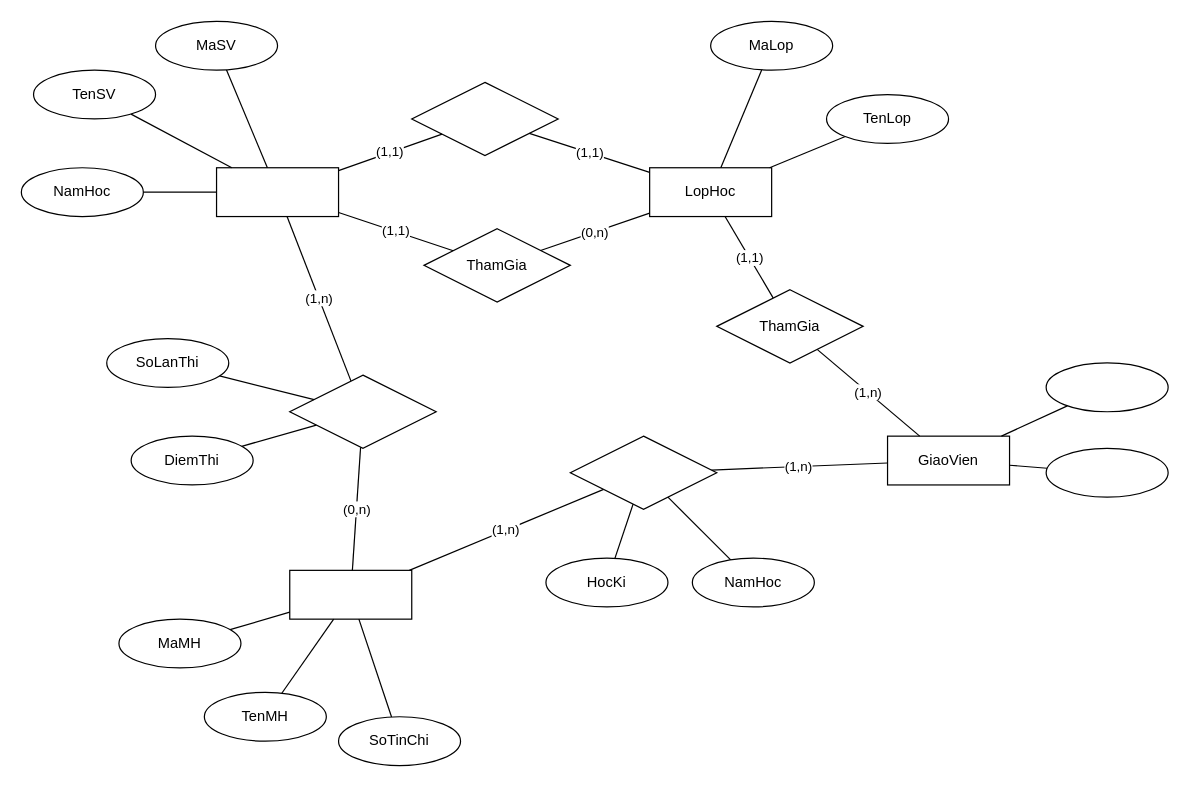
Some shapes in this 1190 by 787 pixel diagram are drawn without their labels. Here are the shapes that lost their labels. From the top down, the centre of each, then its label:
At pixel 484 118: "LopTruong".
At pixel 277 192: "SinhVien".
At pixel 1106 387: "MaGV".
At pixel 362 411: "KetQuaThi".
At pixel 643 472: "GiangDay".
At pixel 1106 472: "TenGV".
At pixel 350 594: "MonHoc".
